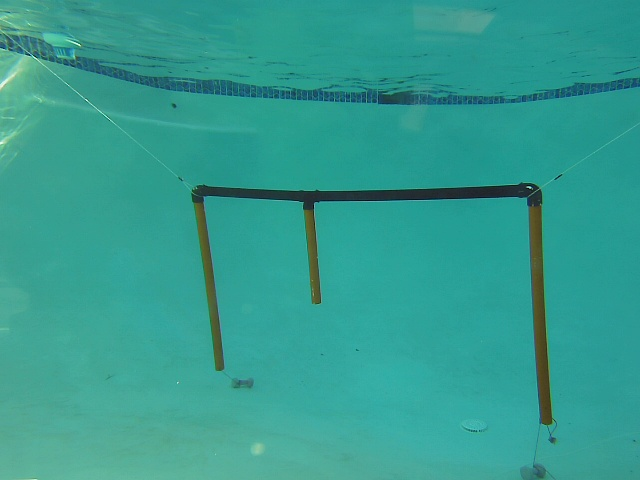Gate: (188, 198, 227, 370), (528, 203, 553, 423), (300, 203, 323, 309)
